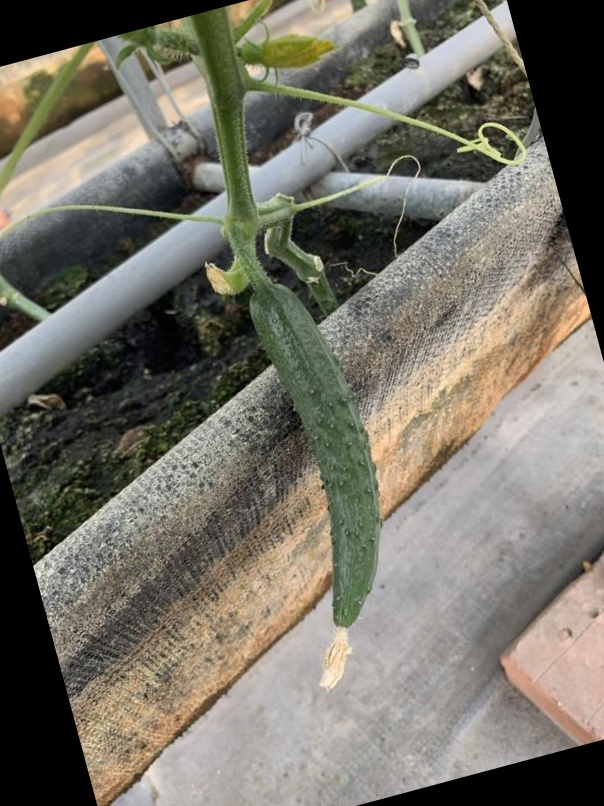growth: (241, 277, 397, 701)
mature: (240, 273, 391, 681)
